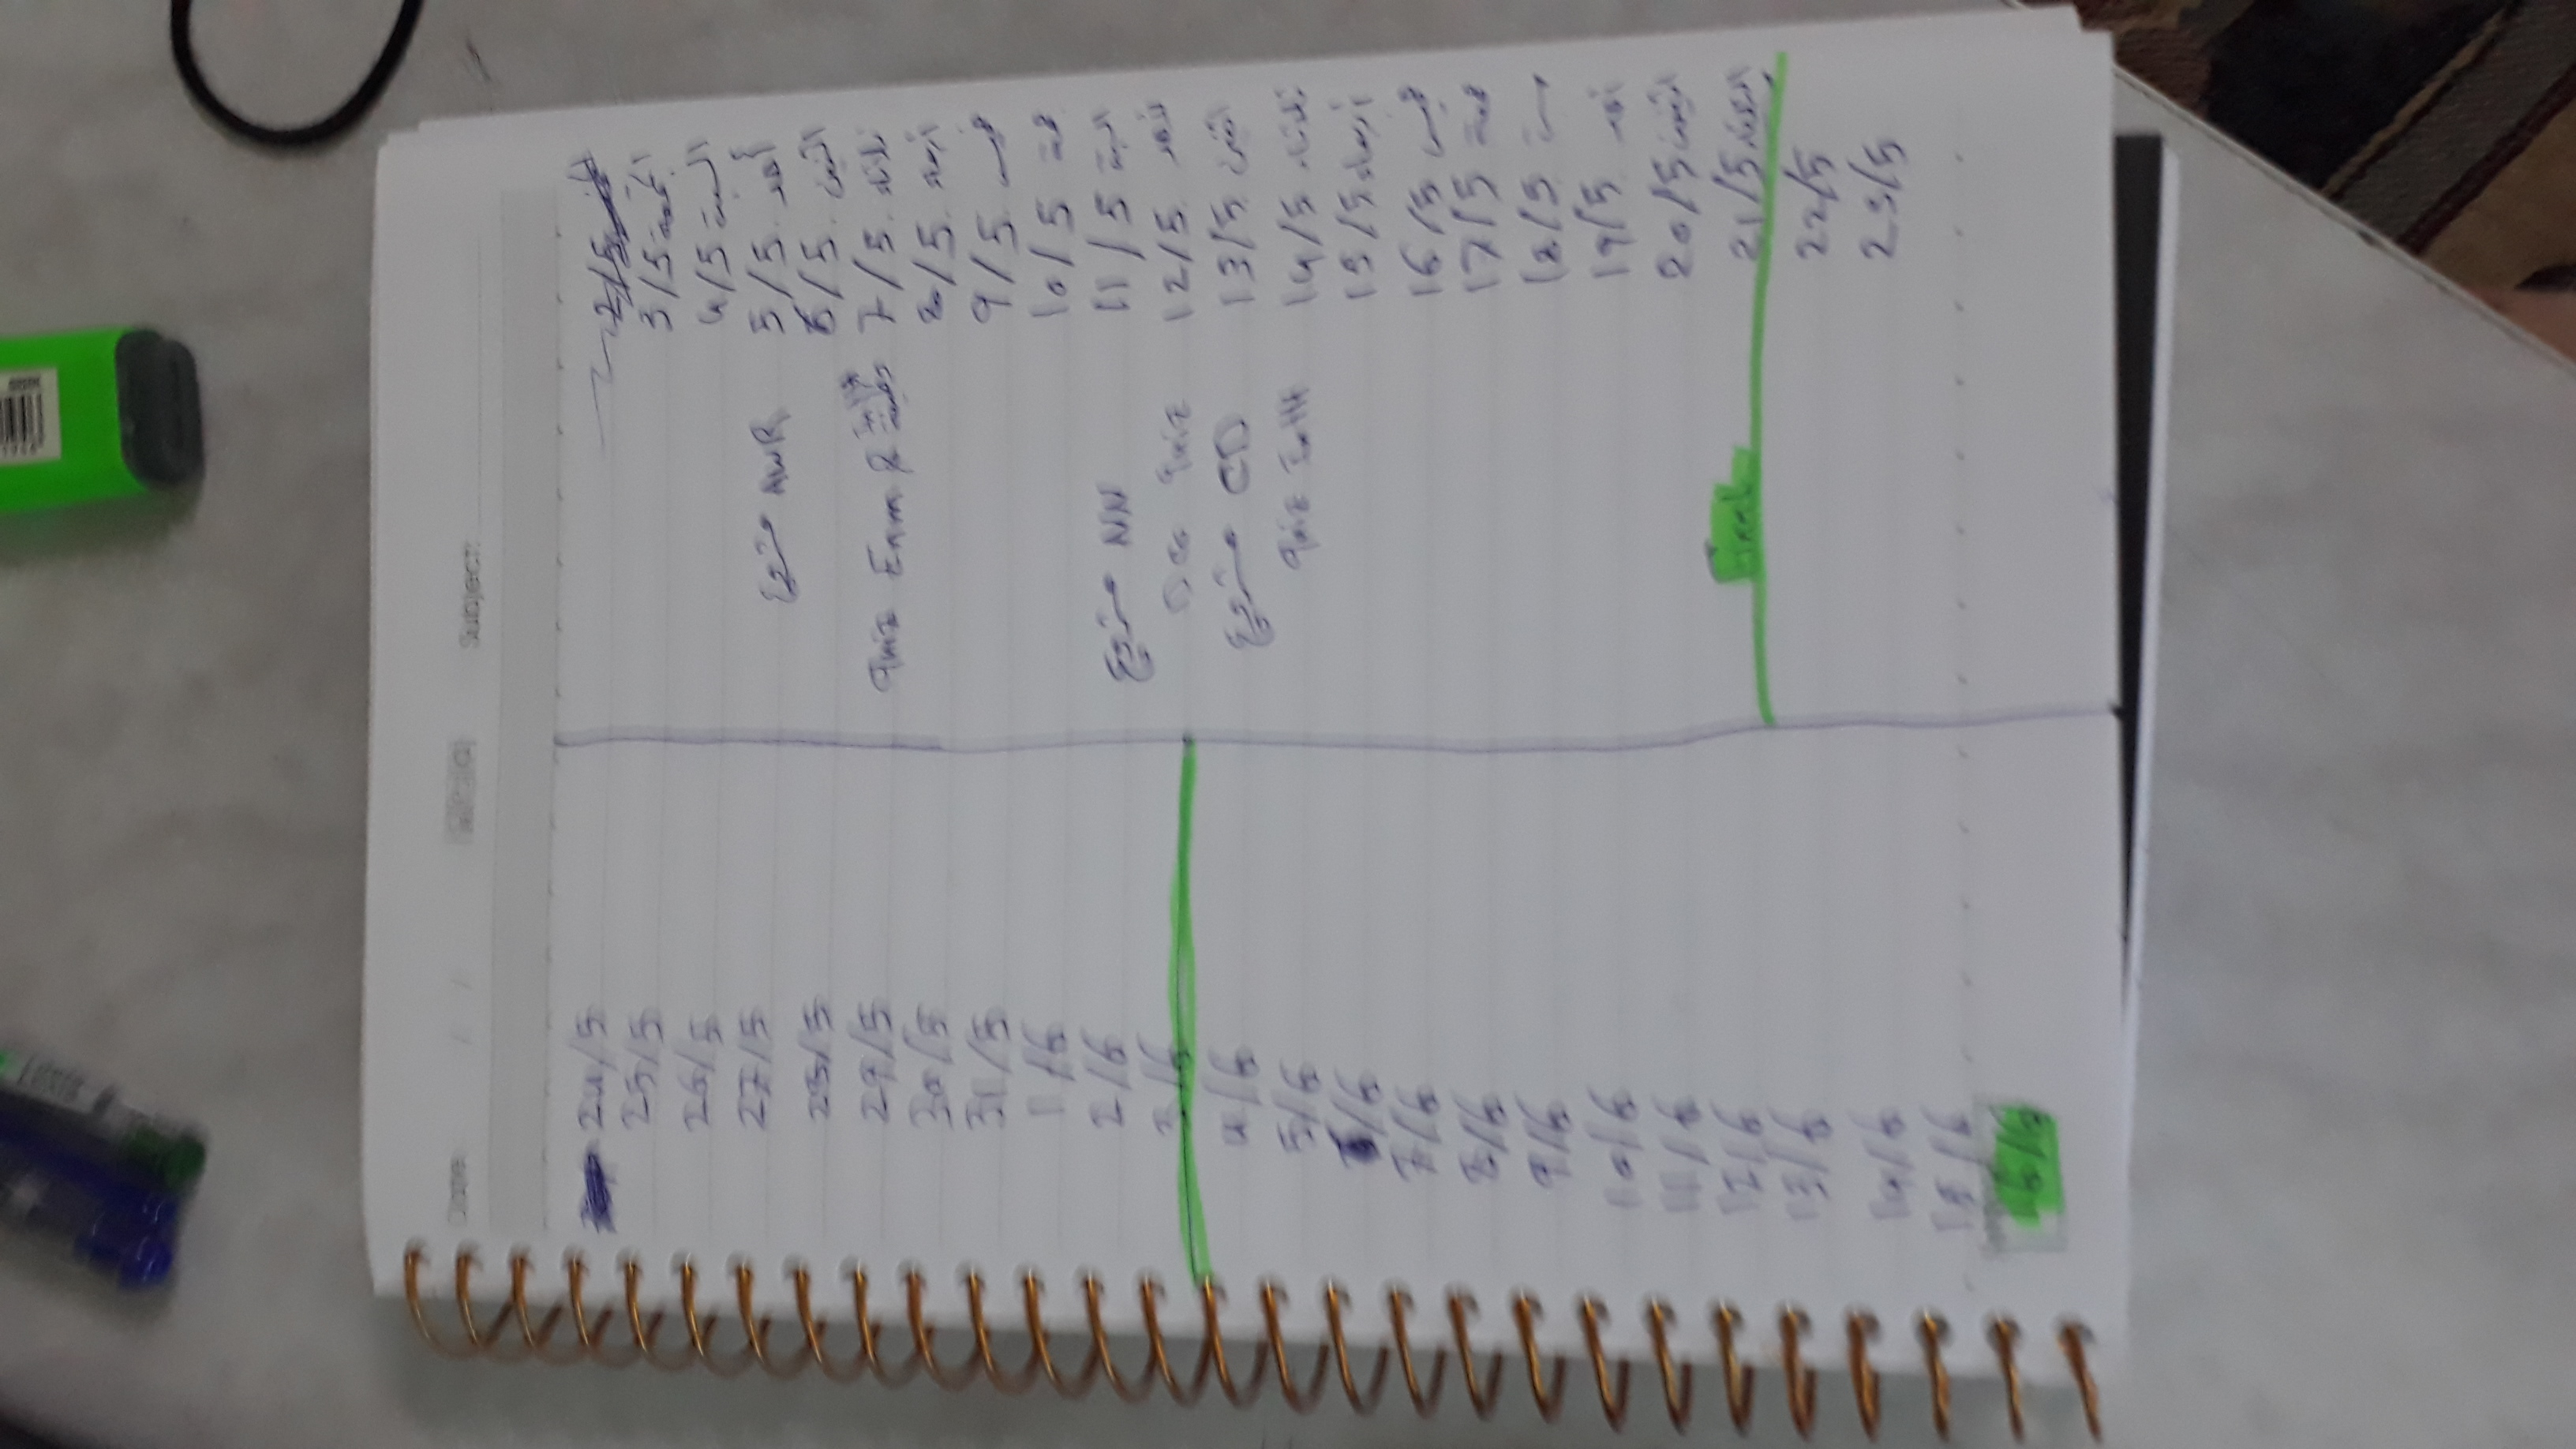dftar: (290, 9, 2176, 1433)
